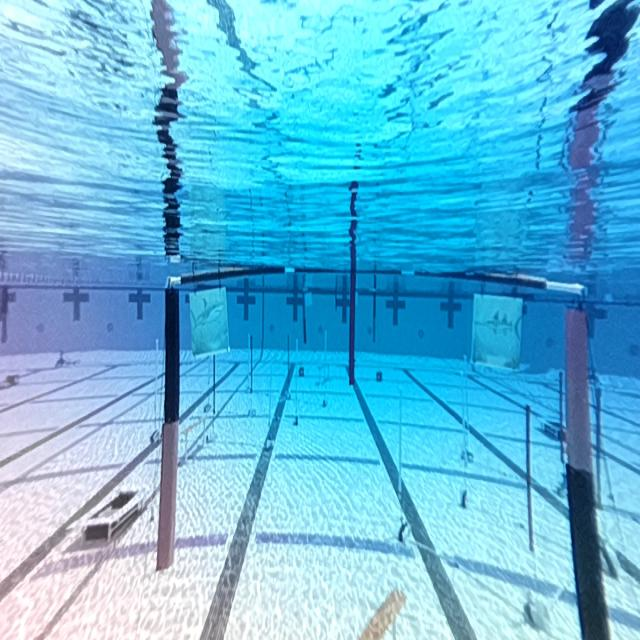pointed_nose: (473, 302, 525, 346)
round_nose: (188, 291, 231, 330)
